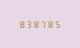eight: (17, 20, 23, 28), (32, 20, 38, 28), (46, 20, 52, 28)
five: (53, 20, 59, 28)
seven: (39, 20, 45, 28)
three: (24, 20, 30, 28)
